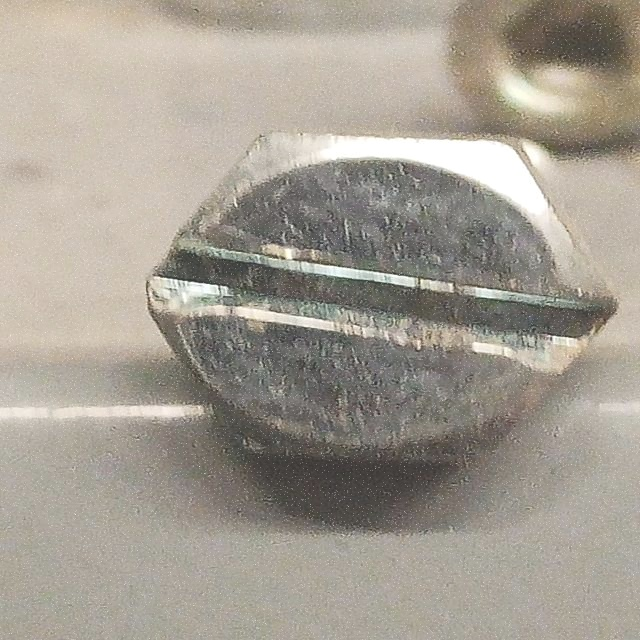duz: (142, 128, 618, 469)
